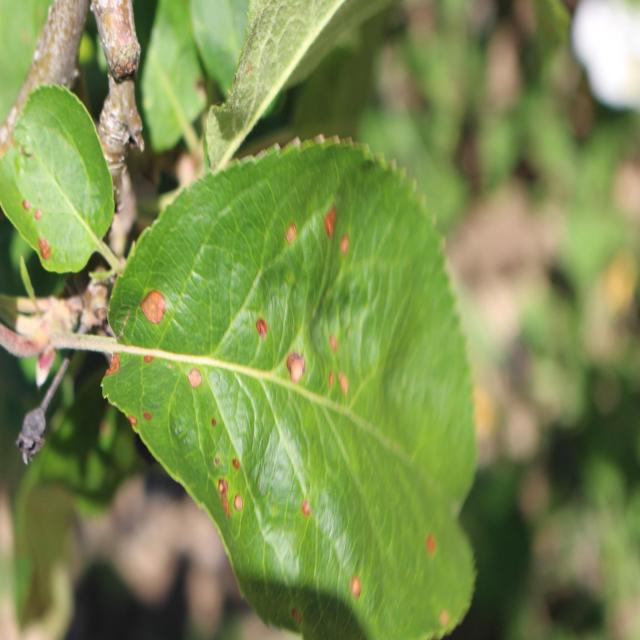Black Rot: (203, 450, 249, 532), (136, 276, 174, 338), (282, 344, 317, 402), (12, 180, 47, 224), (323, 360, 356, 405), (274, 592, 303, 640), (246, 307, 276, 350), (319, 186, 339, 248), (180, 360, 209, 402), (126, 398, 153, 441), (336, 225, 359, 275), (280, 205, 300, 260), (294, 490, 326, 524), (33, 234, 62, 269), (328, 319, 348, 363), (346, 569, 368, 602), (419, 532, 445, 558), (138, 346, 158, 371), (206, 414, 221, 435)
